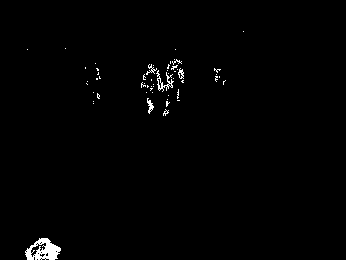person: (138, 60, 165, 115), (162, 57, 186, 118)
